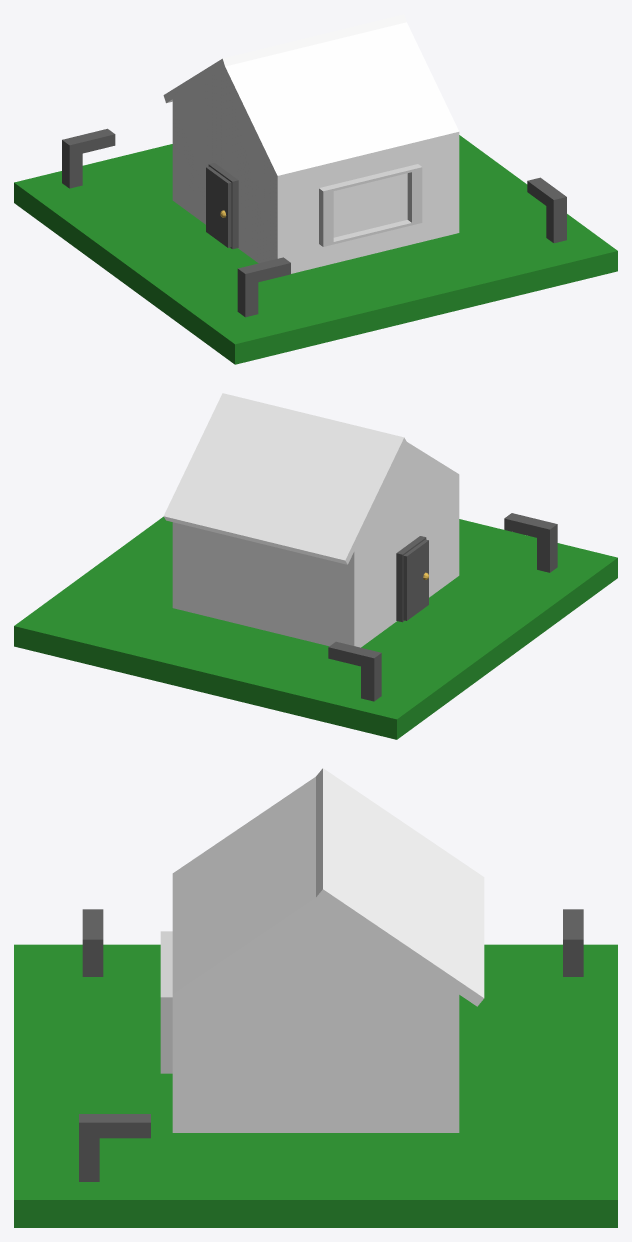
Rendered from UglyHouse.glb.
3 renders of one model, top to bottom at view 1: azimuth 30°, elevation 25°; view 2: azimuth 150°, elevation 25°; view 3: azimuth 270°, elevation 25°, orthographic. The views are drawn at different scales.
Visible parts, largest first — view 1: Cube, Cube.001, Cube.003, Plane, Cube.002, Cube.005, Cube.006, Cube.004; view 2: Cube, Cube.001, Cube.002, Plane, Cube.006, Cube.005; view 3: Cube, Cube.001, Cube.002, Cube.004, Cube.003, Cube.005, Cube.006.
Boxes of the visible parts, box(x1,y1,x2,y2) form: Cube: box(14, 135, 617, 364); Cube.001: box(172, 22, 459, 273); Cube.003: box(319, 164, 422, 246); Plane: box(206, 163, 238, 249); Cube.002: box(163, 14, 406, 103); Cube.005: box(237, 257, 290, 317); Cube.006: box(62, 128, 115, 188); Cube.004: box(527, 177, 566, 243); Cube: box(14, 516, 617, 739); Cube.001: box(172, 442, 459, 647); Cube.002: box(163, 393, 406, 564); Plane: box(396, 536, 428, 622); Cube.006: box(328, 641, 381, 701); Cube.005: box(504, 513, 557, 572); Cube: box(14, 944, 617, 1227); Cube.001: box(172, 776, 459, 1132); Cube.002: box(316, 768, 484, 1006); Cube.004: box(79, 1114, 150, 1181); Cube.003: box(160, 931, 172, 1073); Cube.005: box(82, 909, 103, 976); Cube.006: box(563, 909, 583, 976).
Size of the model in its own units: 3.41 by 1.69 by 3.41.
